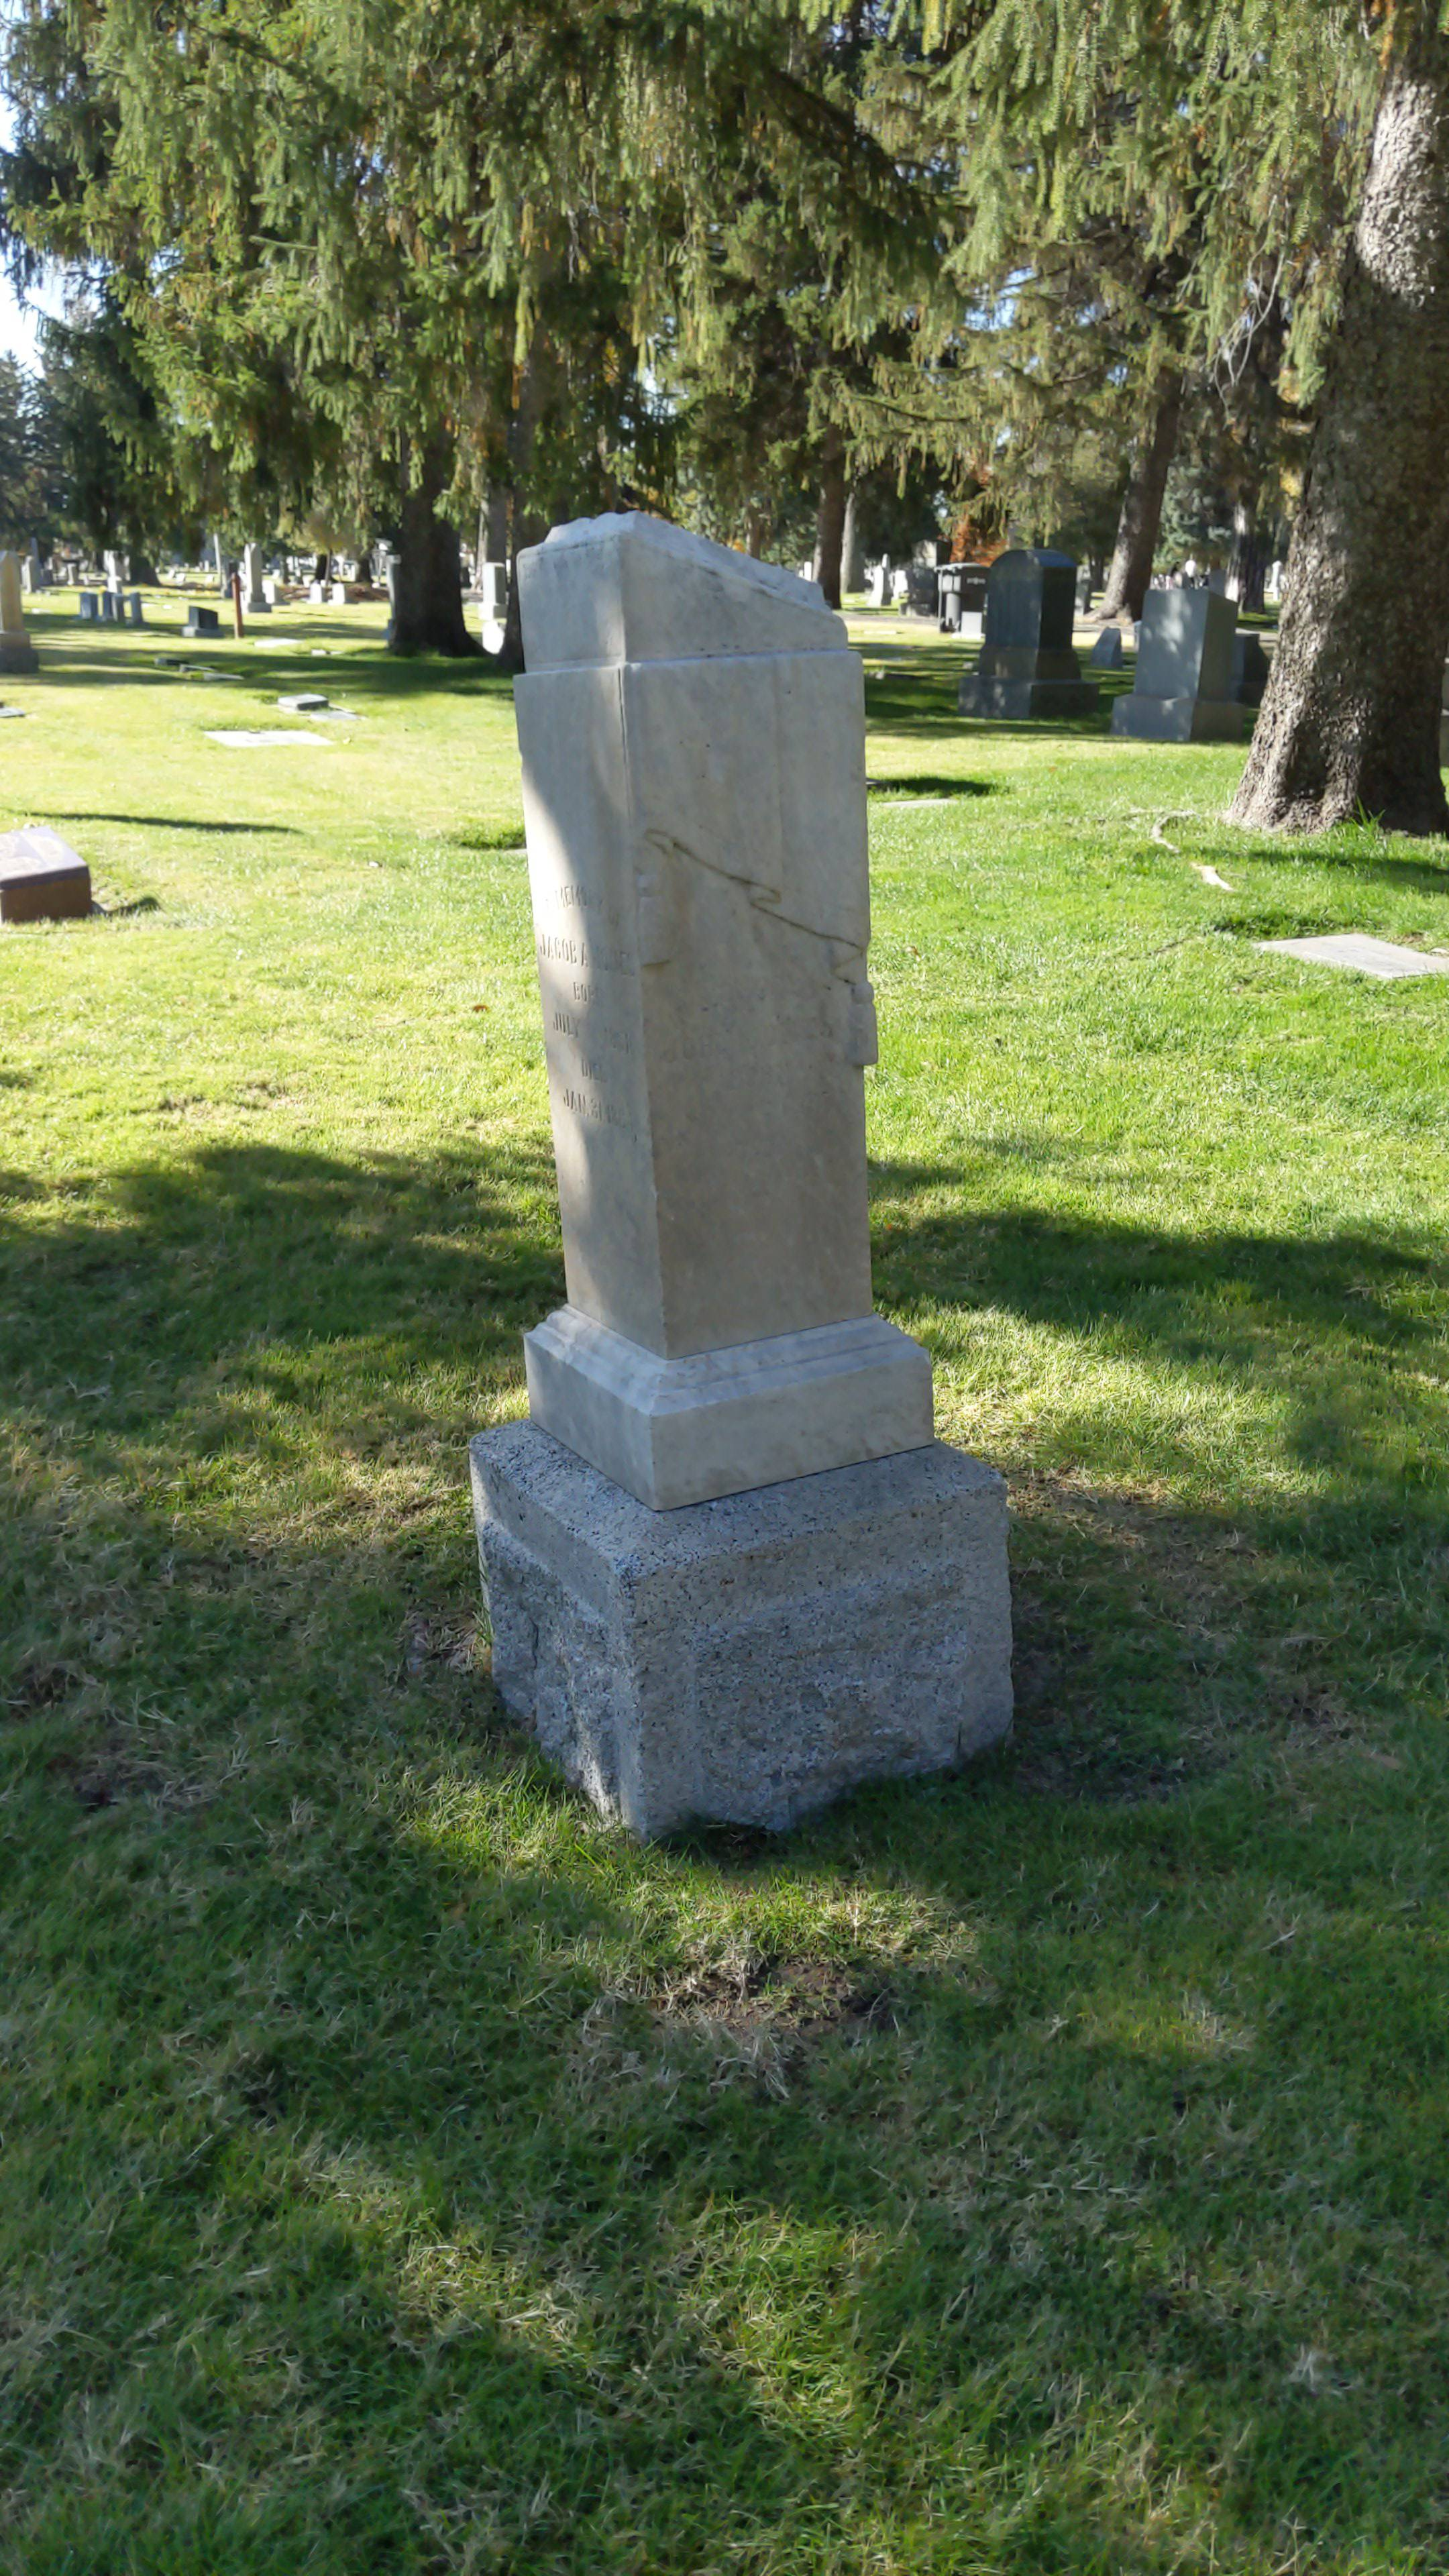obelisk: (517, 513, 932, 1504)
